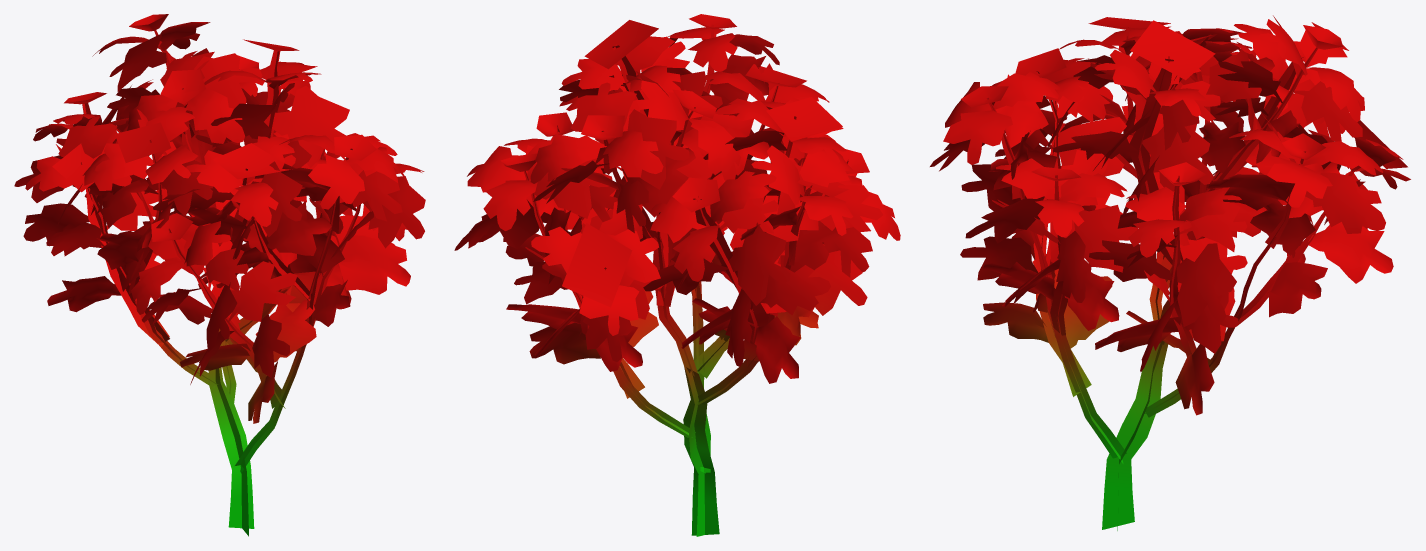
Rendered from Rose Hip_LOD3_Var2.fbx.
3 renders of one model, left to right at view 1: azimuth 30°, elevation 25°; view 2: azimuth 150°, elevation 25°; view 3: azimuth 270°, elevation 25°, orthographic. The views are drawn at different scales.
Visible parts, largest first — view 1: _ahnn_Var2_LOD3; view 2: _ahnn_Var2_LOD3; view 3: _ahnn_Var2_LOD3.
Part boxes in pixels (<box>): _ahnn_Var2_LOD3: <box>14,14,425,536</box>; _ahnn_Var2_LOD3: <box>454,14,900,536</box>; _ahnn_Var2_LOD3: <box>930,15,1410,530</box>.
Bounding box in the file's own units: 89.44 × 117 × 97.92.
